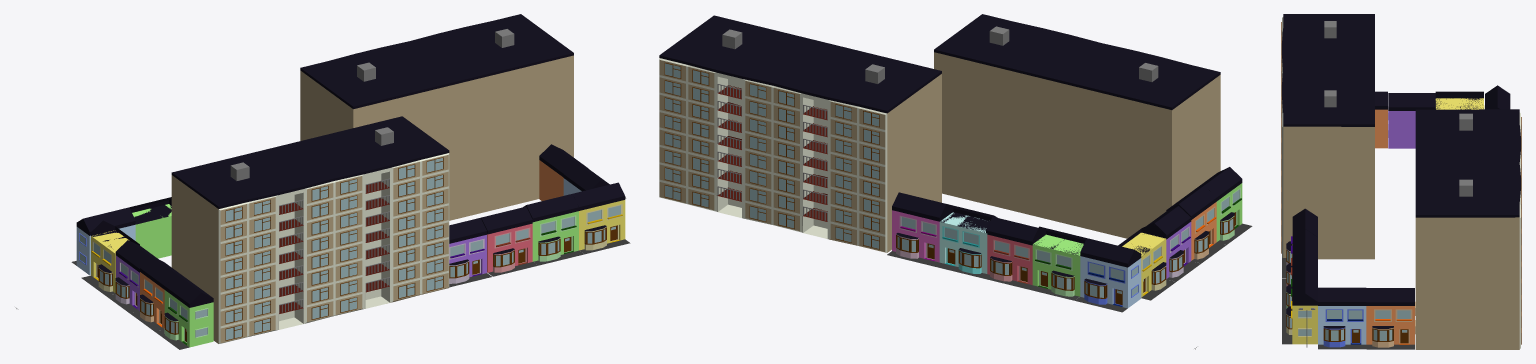
Rendered from 2x4block.glb.
The picture shows the model from 3 angles, left to right: view 1: azimuth 30°, elevation 25°; view 2: azimuth 150°, elevation 25°; view 3: azimuth 270°, elevation 25°; orthographic projection. The views are drawn at different scales.
Visible parts, largest first — view 1: Cube.001; view 2: Cube.001; view 3: Cube.001.
Part boxes in pixels (x1=…): Cube.001: x1=71, y1=14, x2=630, y2=349; Cube.001: x1=659, y1=14, x2=1252, y2=312; Cube.001: x1=1281, y1=14, x2=1521, y2=349.
Bounding box in the file's own units: 0.4469 × 0.1481 × 0.185.
